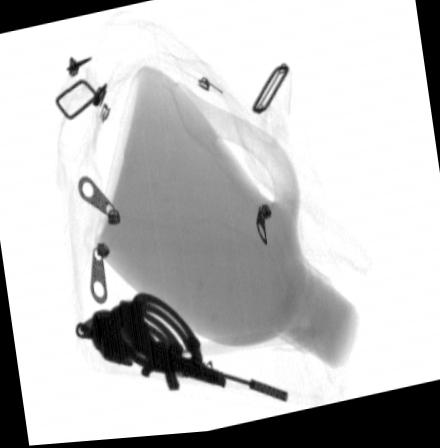Gun: (106, 334, 293, 411)
HandCuffs: (74, 291, 203, 378)
